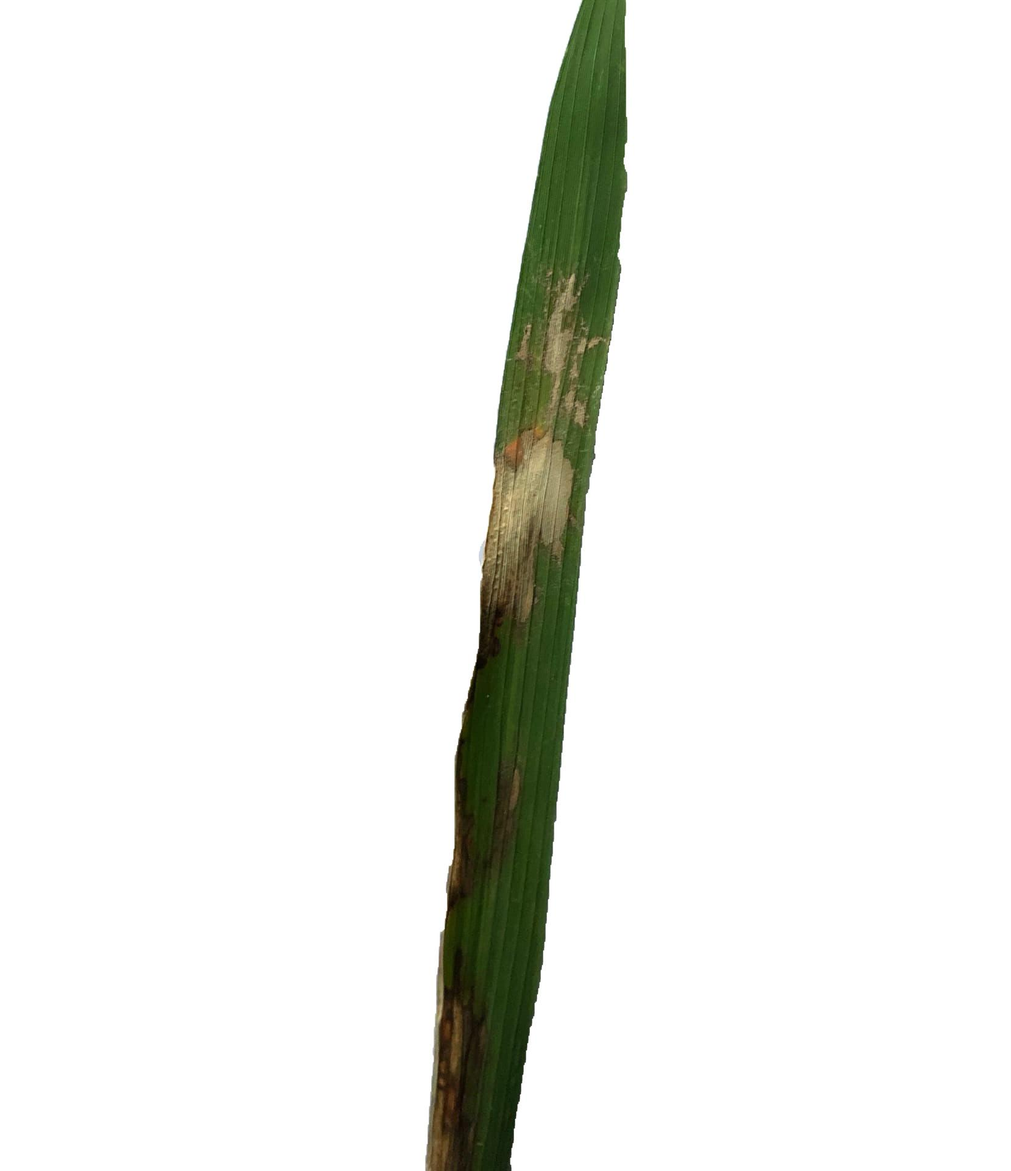Blight: (500, 418, 591, 613), (518, 256, 607, 403), (433, 985, 482, 1144), (497, 717, 521, 829)
